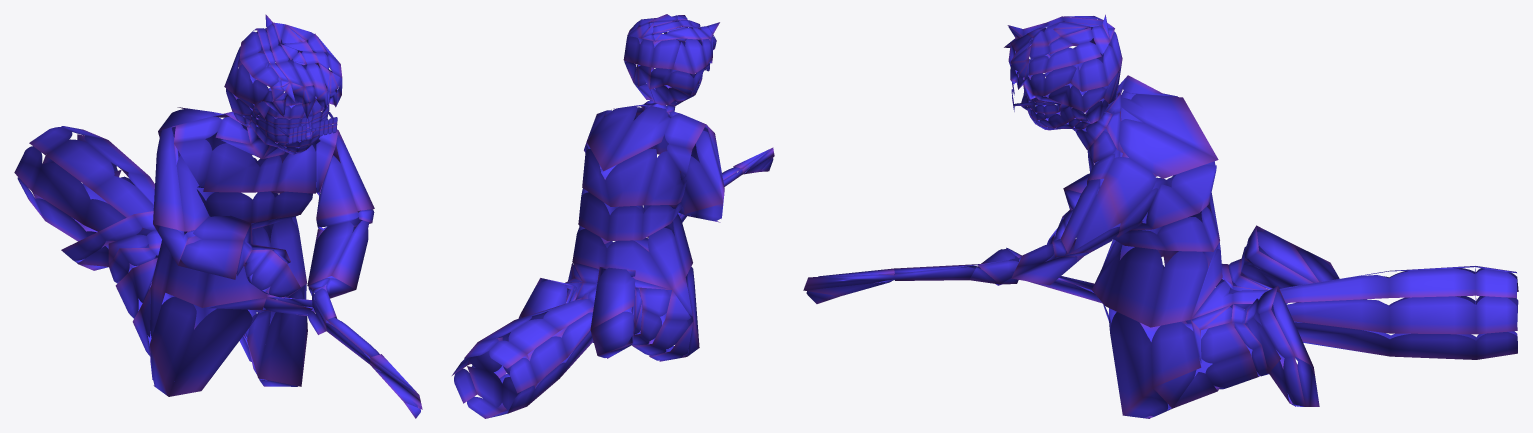
3 renders of one model, left to right at view 1: azimuth 30°, elevation 25°; view 2: azimuth 150°, elevation 25°; view 3: azimuth 270°, elevation 25°, orthographic. The views are drawn at different scales.
Parts seen in each view (by area): view 1: T1L3M006_9; view 2: T1L3M006_9; view 3: T1L3M006_9.
Boxes of the visible parts, bbox=[...] form: T1L3M006_9: bbox=[14, 14, 422, 418]; T1L3M006_9: bbox=[452, 14, 774, 418]; T1L3M006_9: bbox=[803, 14, 1518, 418].
Bounding box in the file's own units: 0.502 × 1 × 1.68.
